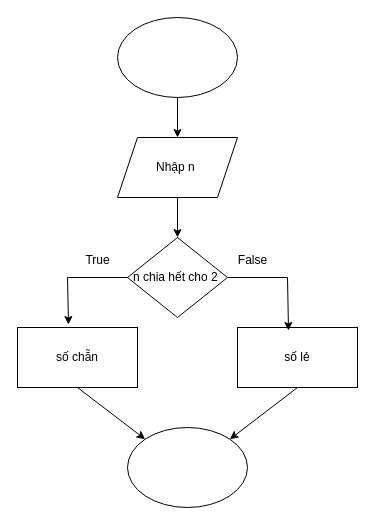
The diagram is 375 pixels wide and 525 high, and some of its shapes have lost their labels. The centre of each missing label's shape, as x and y in pixels:
"End" goes at [187,467].
"Start" goes at [177,57].
